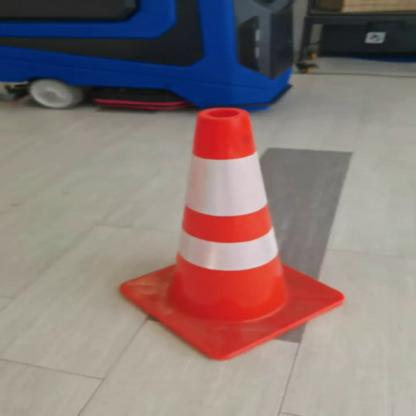cone: (100, 101, 360, 363)
